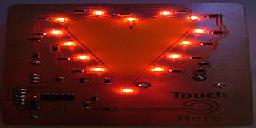LED: (89, 66, 112, 79), (87, 7, 108, 21), (119, 86, 135, 97), (159, 7, 174, 18), (53, 29, 73, 37), (77, 51, 91, 61), (61, 39, 75, 47)
